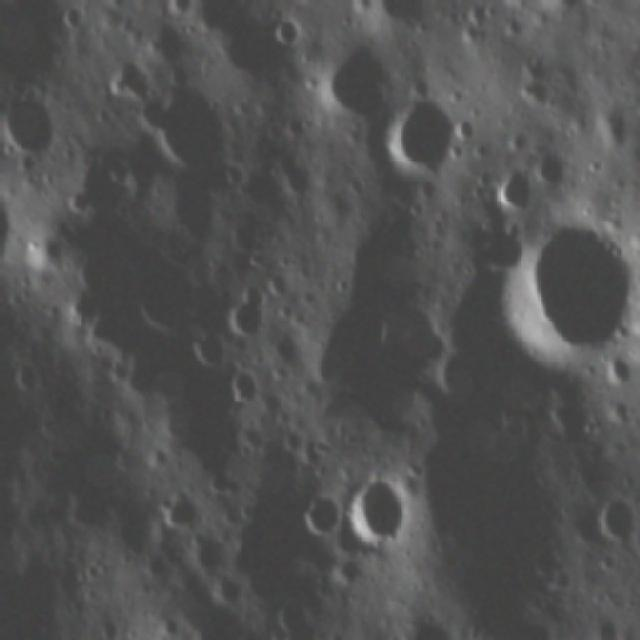crater: (489, 215, 640, 372), (146, 78, 243, 174), (129, 241, 209, 337), (376, 98, 473, 177), (318, 35, 397, 127), (339, 468, 413, 550), (0, 89, 55, 163), (217, 278, 277, 334), (22, 224, 75, 284), (482, 156, 536, 210), (584, 492, 640, 544), (292, 488, 346, 540), (522, 136, 569, 190), (224, 361, 271, 407), (160, 486, 203, 534), (192, 324, 234, 368), (270, 11, 310, 52), (348, 638, 388, 640)
